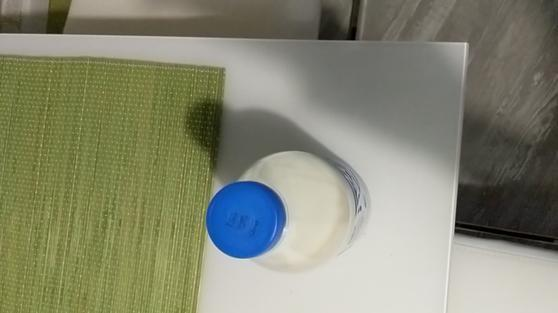milk: (199, 147, 384, 278)
